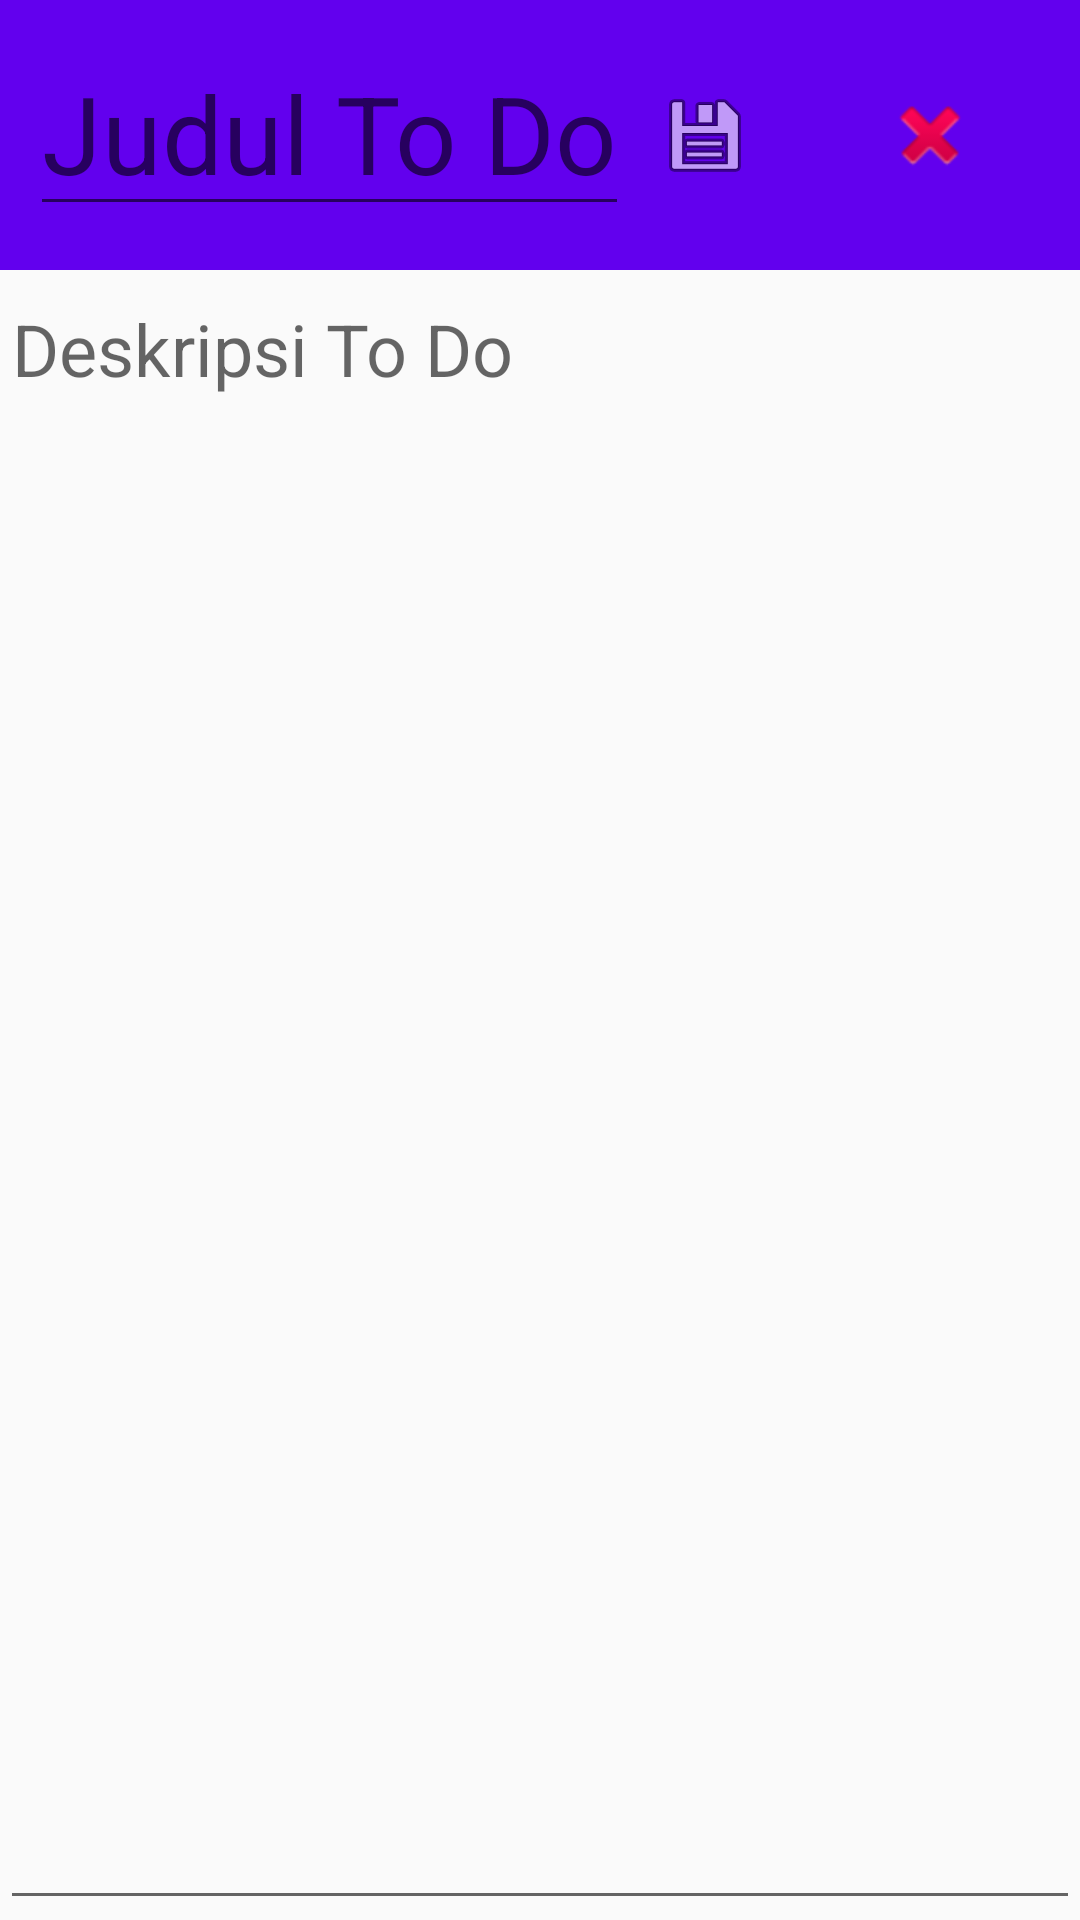

Icon click points for this 1080 x 1920 phone screenshot, format [x,y]:
delete: [930,135]
save: [705,135]
